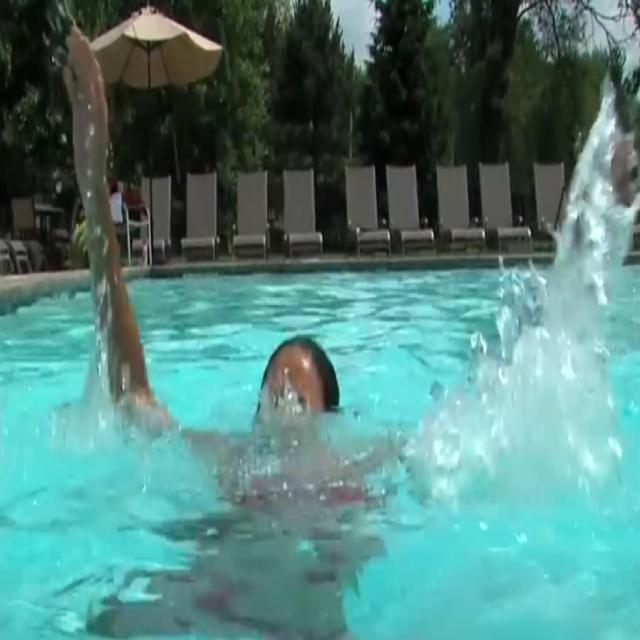Drowning: (46, 24, 640, 640)
